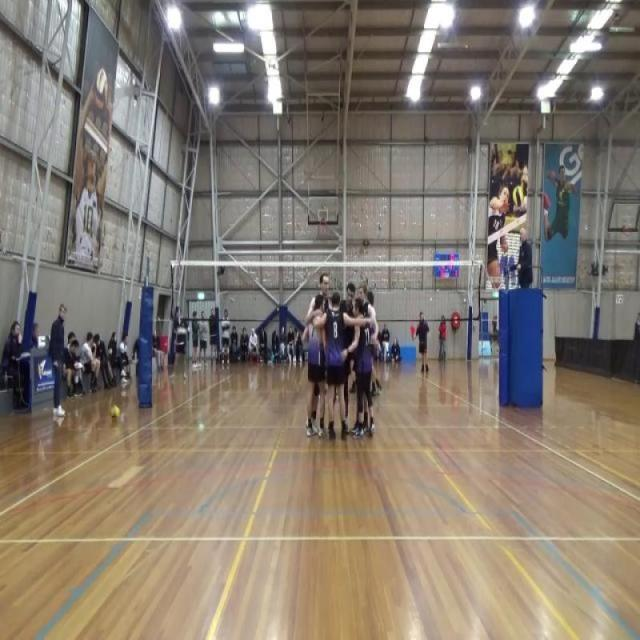volleyball: (92, 68, 108, 112), (512, 184, 524, 207), (109, 404, 121, 426)
